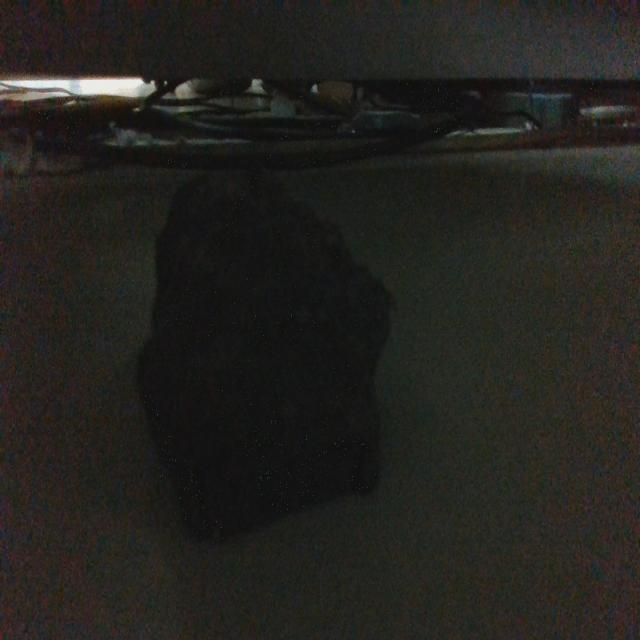stone: (136, 158, 398, 555)
